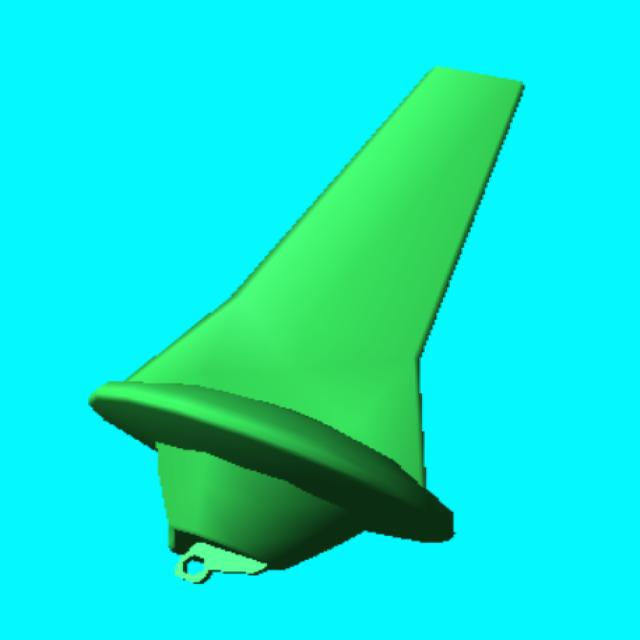GreenBuoy: (90, 68, 521, 581)
